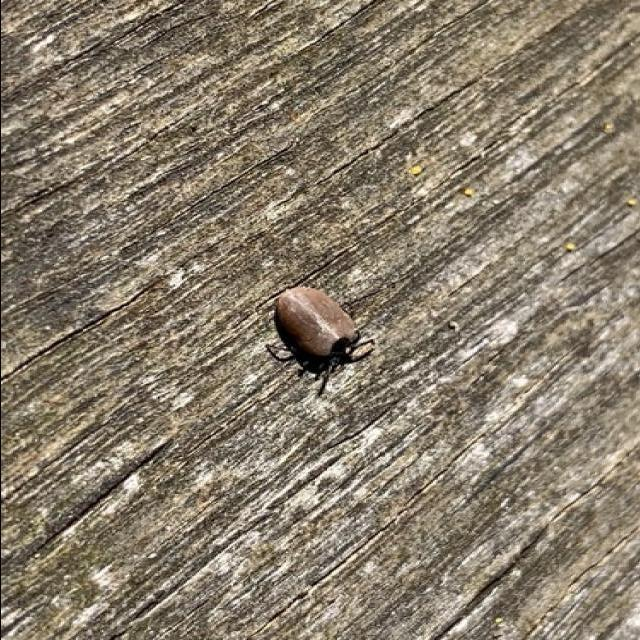Ixodes Ricinus-F-Fed: (265, 284, 375, 396)
